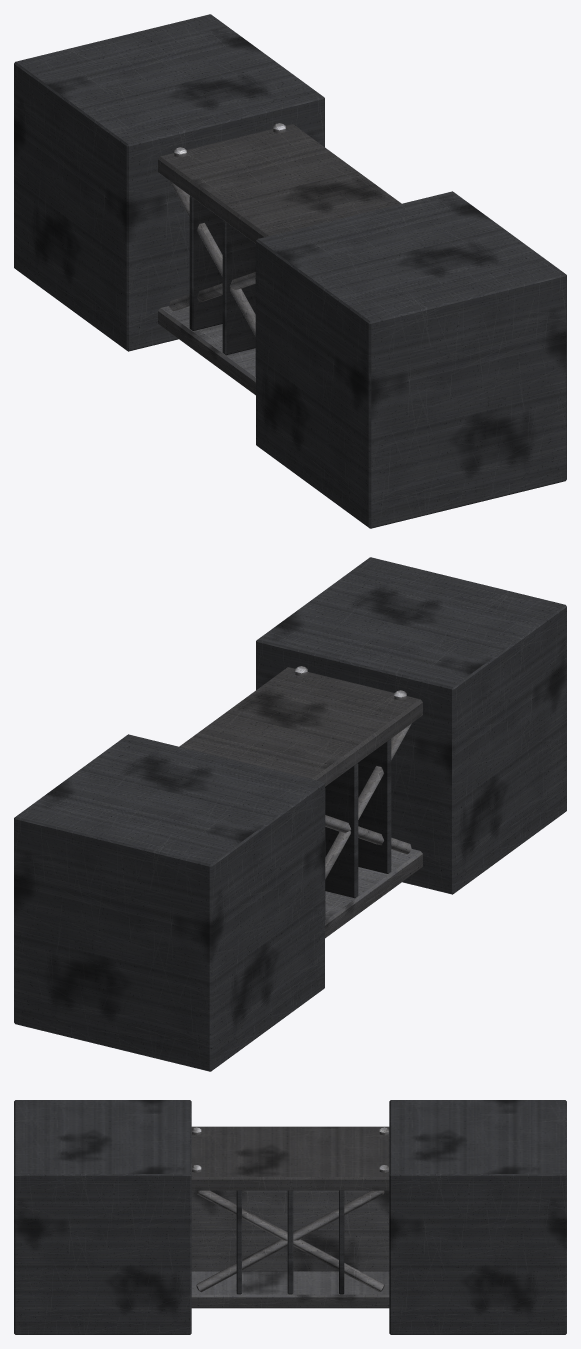
The model's file is R4C_STRUT_STANDARD_LOD1.glb.
3 renders of one model, top to bottom at view 1: azimuth 30°, elevation 25°; view 2: azimuth 150°, elevation 25°; view 3: azimuth 270°, elevation 25°, orthographic. The views are drawn at different scales.
Visible parts, largest first — view 1: R4C_STRUT_STANDARD_LOD1; view 2: R4C_STRUT_STANDARD_LOD1; view 3: R4C_STRUT_STANDARD_LOD1.
Part boxes in pixels (x1,y1,x2,y2): R4C_STRUT_STANDARD_LOD1: (14, 14, 566, 528); R4C_STRUT_STANDARD_LOD1: (14, 557, 566, 1071); R4C_STRUT_STANDARD_LOD1: (14, 1100, 566, 1334).
Bounding box in the file's own units: 0.52 × 0.52 × 1.62.
3 materials, 3 textured.
